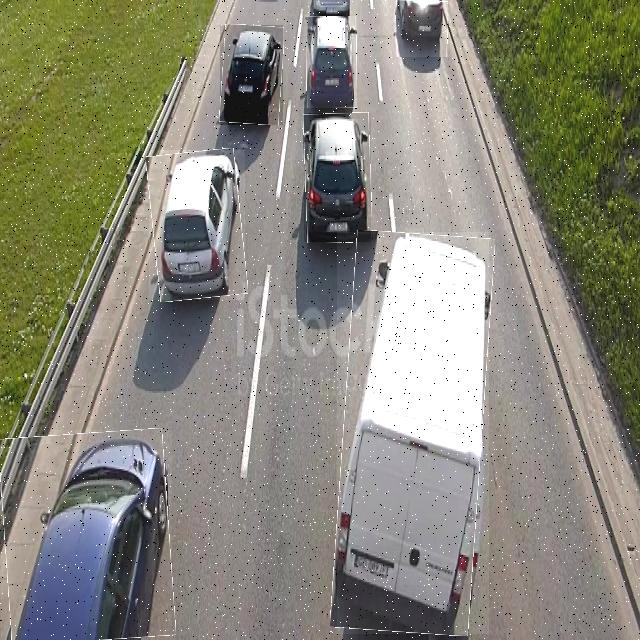Car: (1, 430, 172, 640), (149, 150, 245, 300), (304, 113, 371, 242), (220, 25, 283, 125), (307, 16, 357, 108), (396, 0, 448, 57)
Truck: (337, 232, 489, 634)
